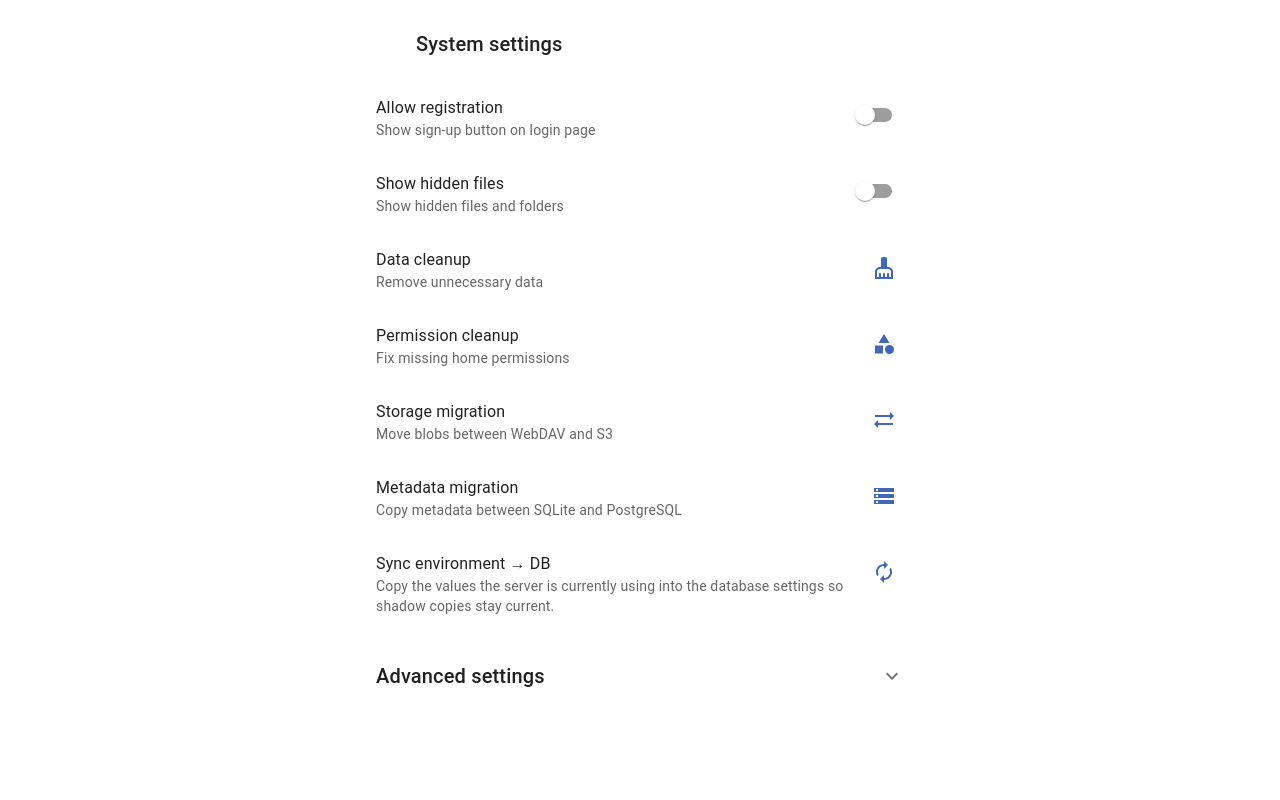
Test: SystemSettingsContent › data cleanup summarizes GC deletions and manual-review reports
Check: the text "Data cleanup" is shown, box [376,250,471,269]
Click the button named "clean up" at point(884, 268), box [864,248,904,288]
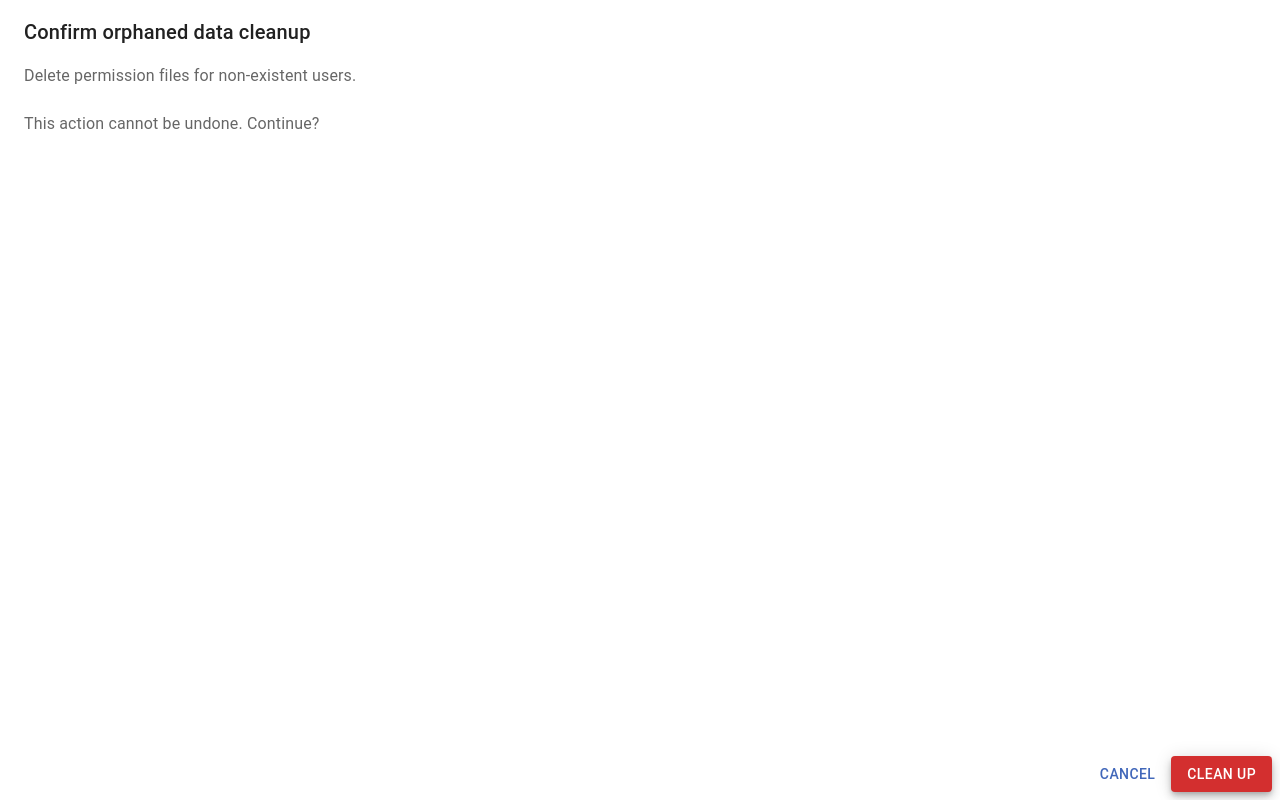
Check: the dialog "Confirm orphaned data cleanup" is shown
Check: the text "Delete permission files for non-existent users" is shown, box [24,66,356,85]
Click the button "Clean up" at point(1222, 774), box [1171,756,1272,792]
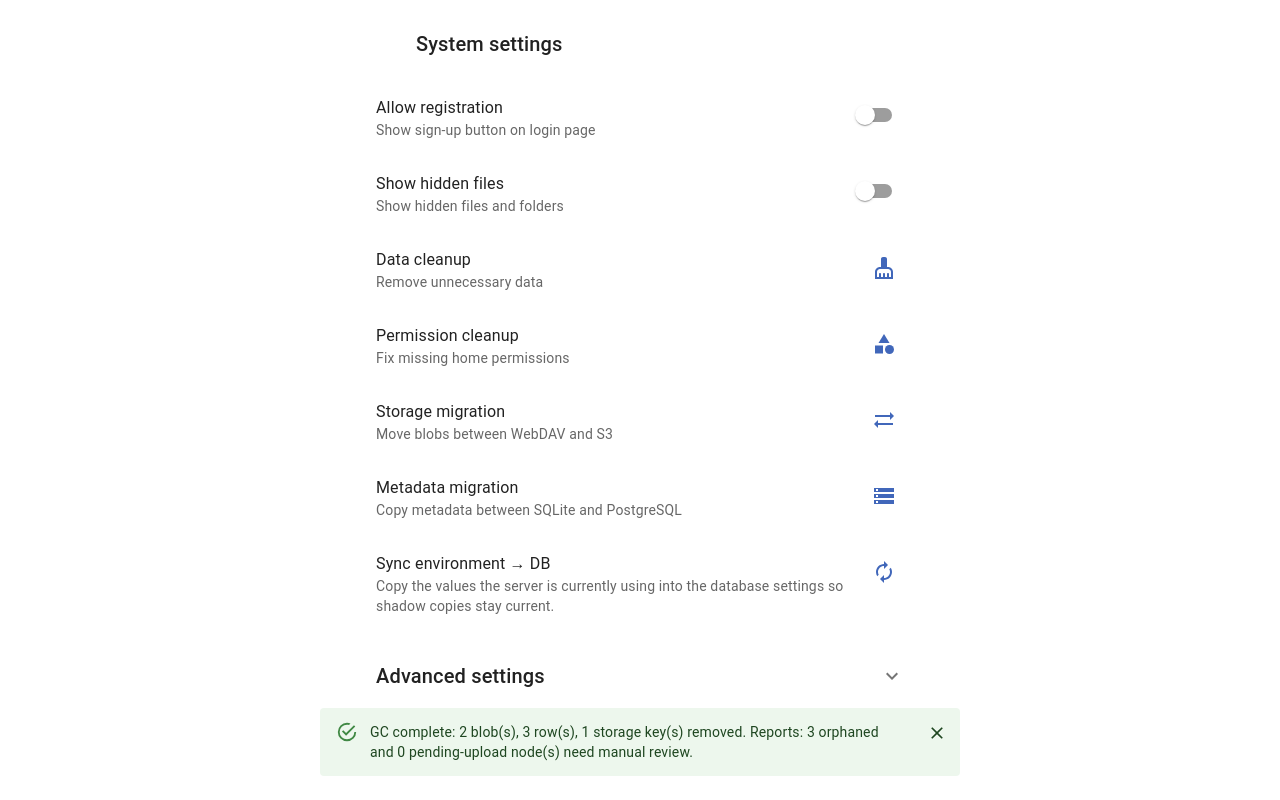
Check: the text "GC complete: 2 blob(s), 3 row(s), 1 storage key(s) removed." shows "Reports: 3 orphaned and 0 pending-upload node(s) need manual review.", box [370,724,879,760]
